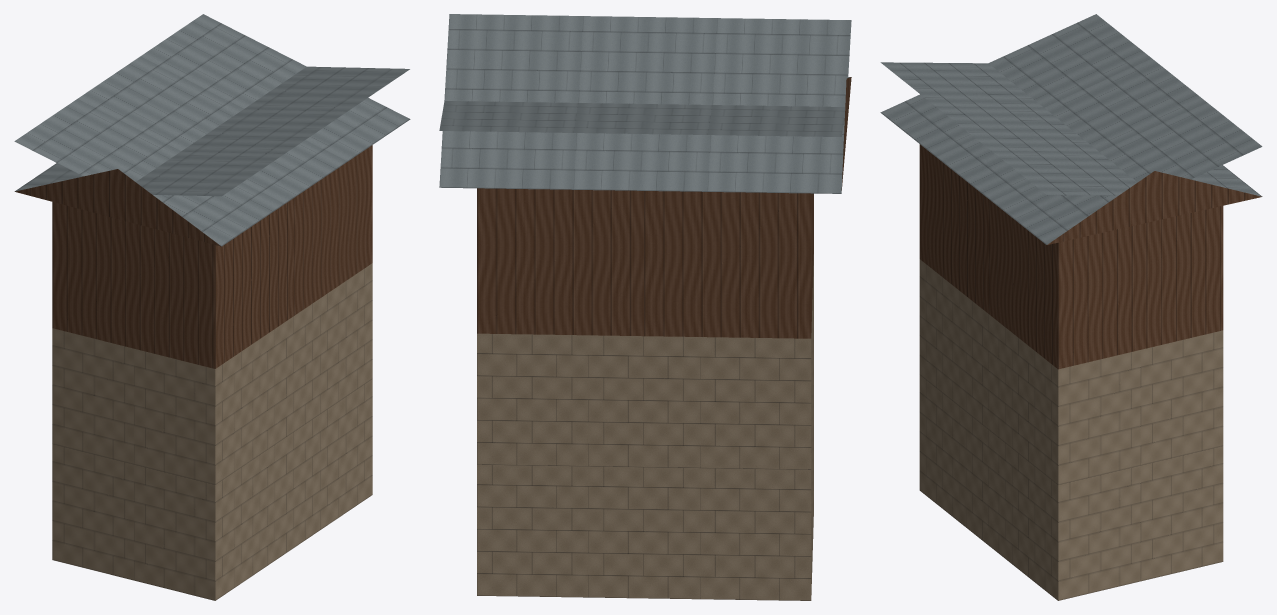
The model's file is bld_c19_30_376.gltf.
The picture shows the model from 3 angles, left to right: view 1: azimuth 30°, elevation 25°; view 2: azimuth 150°, elevation 25°; view 3: azimuth 270°, elevation 25°; orthographic projection. The views are drawn at different scales.
Parts seen in each view (by area): view 1: bld_c19_30_376; view 2: bld_c19_30_376; view 3: bld_c19_30_376.
Part boxes in pixels (x1=…): bld_c19_30_376: x1=14, y1=14, x2=410, y2=600; bld_c19_30_376: x1=439, y1=14, x2=851, y2=600; bld_c19_30_376: x1=880, y1=14, x2=1262, y2=600.
Bounding box in the file's own units: 7.73 × 8.4 × 6.9.
Materials: 4 (4 with a texture image).
